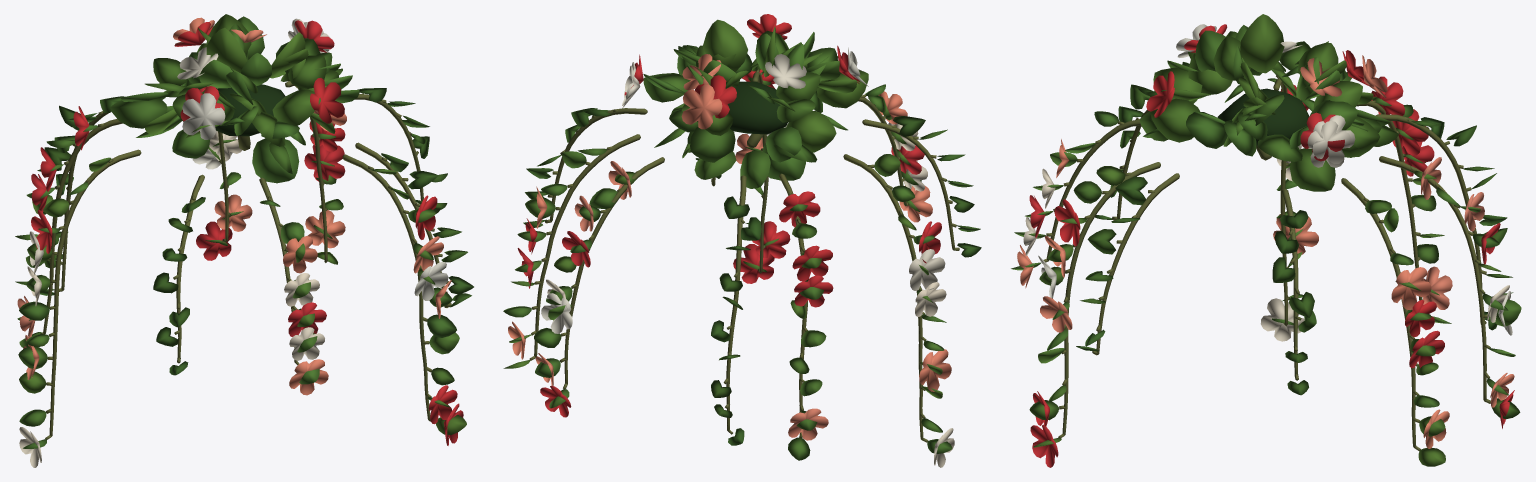
The model's file is basket_trailing_red.glb.
The picture shows the model from 3 angles, left to right: view 1: azimuth 30°, elevation 25°; view 2: azimuth 150°, elevation 25°; view 3: azimuth 270°, elevation 25°; orthographic projection. The views are drawn at different scales.
Visible parts, largest first — view 1: Sammel Pflanze, Sammel Putz, Sammel Blatt; view 2: Sammel Pflanze, Sammel Putz, Sammel Blatt; view 3: Sammel Pflanze, Sammel Putz, Sammel Blatt.
Part boxes in pixels (box(x1,y1,x2,y2)): Sammel Pflanze: box(15, 14, 473, 467); Sammel Putz: box(40, 81, 451, 439); Sammel Blatt: box(215, 84, 285, 136); Sammel Pflanze: box(503, 14, 981, 467); Sammel Putz: box(529, 69, 959, 442); Sammel Blatt: box(727, 81, 787, 134); Sammel Pflanze: box(1011, 14, 1521, 467); Sammel Putz: box(1042, 75, 1490, 451); Sammel Blatt: box(1217, 88, 1309, 145).
Size of the model in its own units: 0.6142 by 0.5453 by 0.6007.
